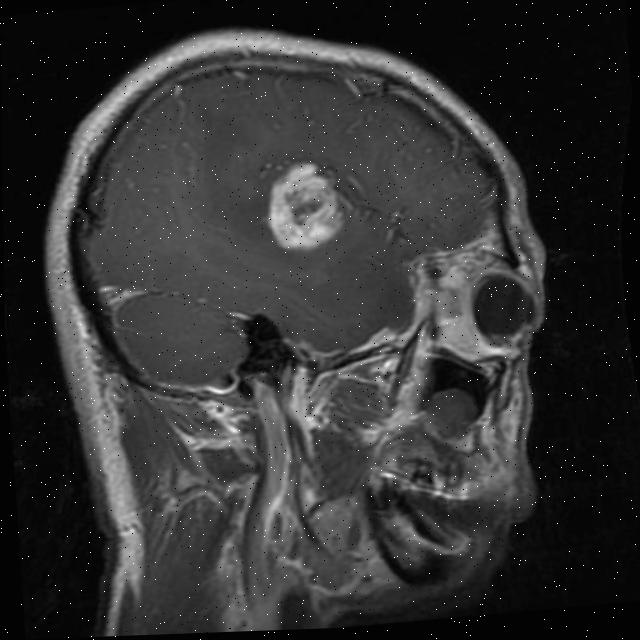Glioma: (263, 159, 346, 255)
